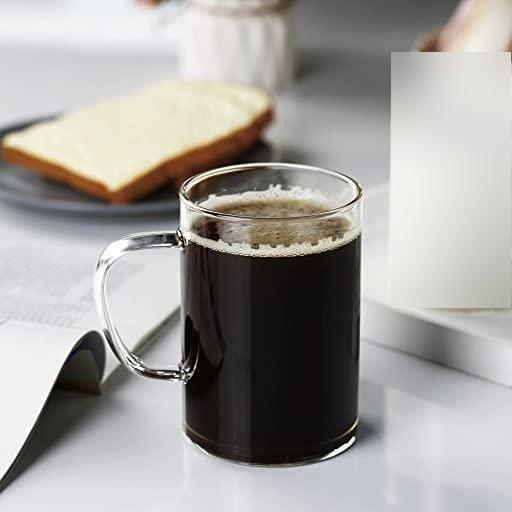glass-mug: (92, 159, 372, 470)
